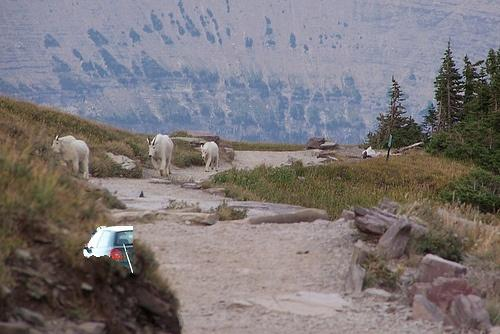tampered: (84, 227, 133, 273)
